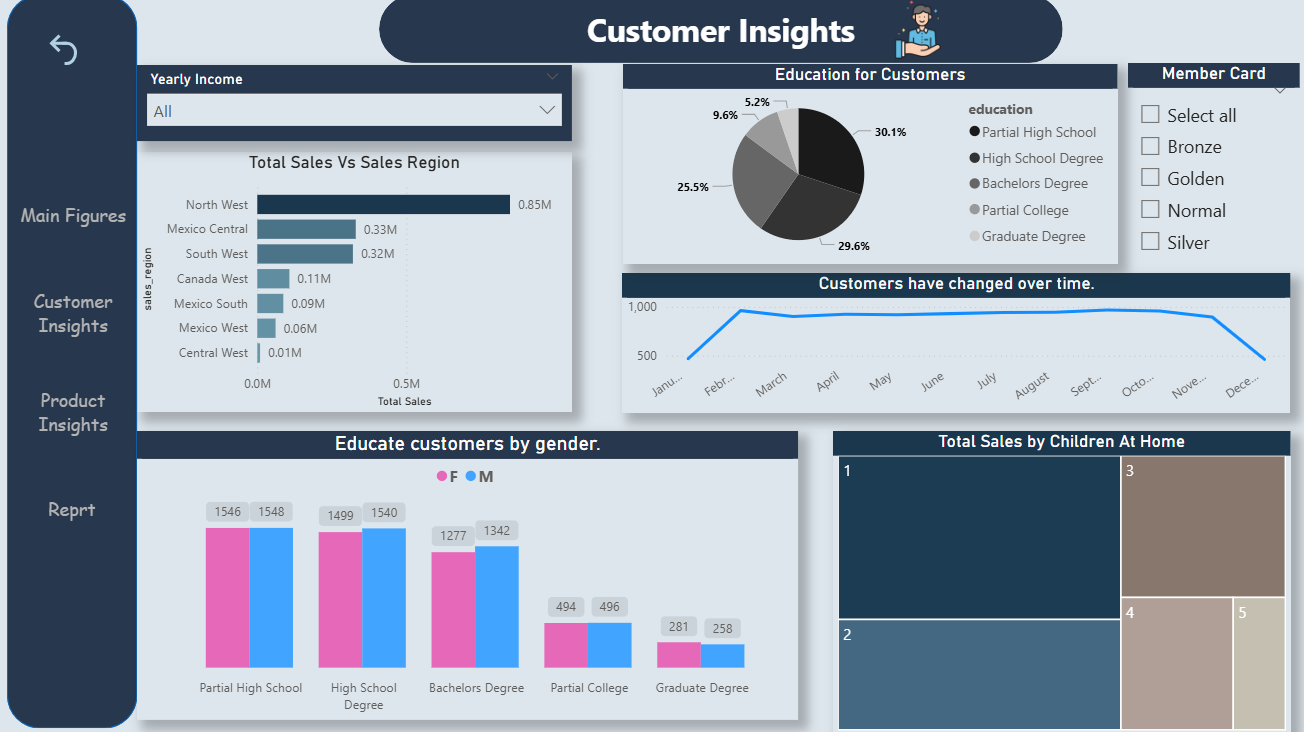

Layout of this report page (visuals, bound fields, positions):
{"tool":"powerbi","page":{"name":"Customer Insights ","canvas":[1280,720],"ordinal":1},"visuals":[{"type":"shape","box":[14.4,0,126.7,713.3],"z":0},{"type":"shape","box":[376.8,0,665.1,66.2],"z":1000},{"type":"image","box":[818.8,0,163.3,67.3],"z":2000},{"type":"actionButton","box":[22.7,182.5,113.2,62.8],"z":3000},{"type":"actionButton","box":[22.7,278.5,113.2,62.8],"z":4000},{"type":"actionButton","box":[22.7,374.6,113.2,62.8],"z":5000},{"type":"clusteredColumnChart","title":"Educate customers by gender.","fields":{"Category":["Customers.education"],"Y":["CountNonNull(Customers.customer_id)"],"Series":["Customers.gender"]},"box":[140.6,424.5,642.7,281.2],"z":6000},{"type":"clusteredBarChart","title":"Total Sales Vs Region","fields":{"Y":["Sales.Total Sales"],"Category":["Region.sales_region Hierarchy.sales_region","Region.sales_region Hierarchy.sales_district"]},"box":[141,153,423,253],"z":7000},{"type":"slicer","fields":{"Values":["Customers.yearly_income"]},"box":[141.1,67.8,423.3,74.4],"z":8000},{"type":"treemap","title":"Total Sales by Children At Home","fields":{"Group":["Customers.num_children_at_home"],"Values":["Sales.Total Sales"]},"box":[818.4,424.2,445,295.6],"z":9000},{"type":"lineChart","title":"Customers have changed over time.","fields":{"Category":["Customers.acct_open_date.Variation.Date Hierarchy.Year","Customers.acct_open_date.Variation.Date Hierarchy.Month"],"Y":["CountNonNull(Customers.customer_id)"]},"box":[613,270.7,650.4,135.9],"z":10000},{"type":"actionButton","box":[50,33,100,40],"z":11000},{"type":"pieChart","title":"Education for Customers","fields":{"Category":["Customers.education"],"Y":["CountNonNull(Customers.customer_id)"]},"box":[613.5,67.6,481.1,195.4],"z":12000},{"type":"slicer","title":"Member Card","fields":{"Values":["Customers.member_card"]},"box":[1104.7,66.4,167,196],"z":13000},{"type":"actionButton","box":[21.4,467.8,112.8,63.2],"z":14000}]}

Visuals, with their boxes in screenshot pixels (x1, y1, x2, y2), scaled from the page's 1280x720 canvas onto the 1304x732 screenshot:
shape: (15,0,144,725)
shape: (384,0,1061,67)
image: (834,0,1001,68)
actionButton: (23,186,138,249)
actionButton: (23,283,138,347)
actionButton: (23,381,138,445)
"Educate customers by gender." clusteredColumnChart: (143,432,798,717)
"Total Sales Vs Region" clusteredBarChart: (144,156,575,413)
slicer - Customers.yearly_income: (144,69,575,145)
"Total Sales by Children At Home" treemap: (834,431,1287,731)
"Customers have changed over time." lineChart: (624,275,1287,413)
actionButton: (51,34,153,74)
"Education for Customers" pieChart: (625,69,1115,267)
"Member Card" slicer: (1125,68,1296,267)
actionButton: (22,476,137,540)
